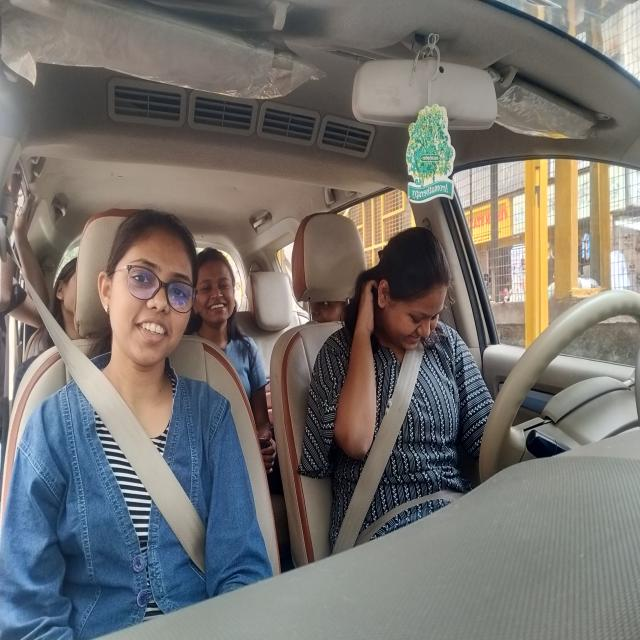drowsy: (363, 214, 461, 385)
person: (90, 196, 208, 388), (190, 235, 244, 362), (42, 255, 86, 358)
